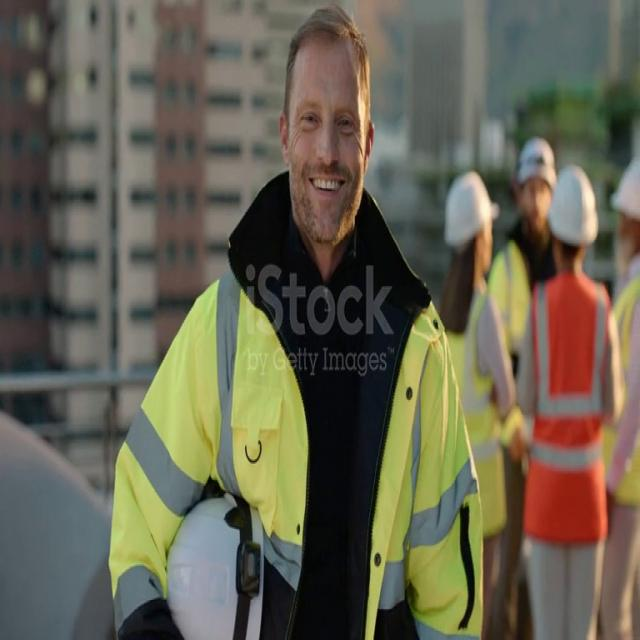capacete: (155, 473, 273, 640), (432, 157, 501, 247), (546, 167, 600, 258), (512, 122, 561, 211), (605, 142, 640, 241)
